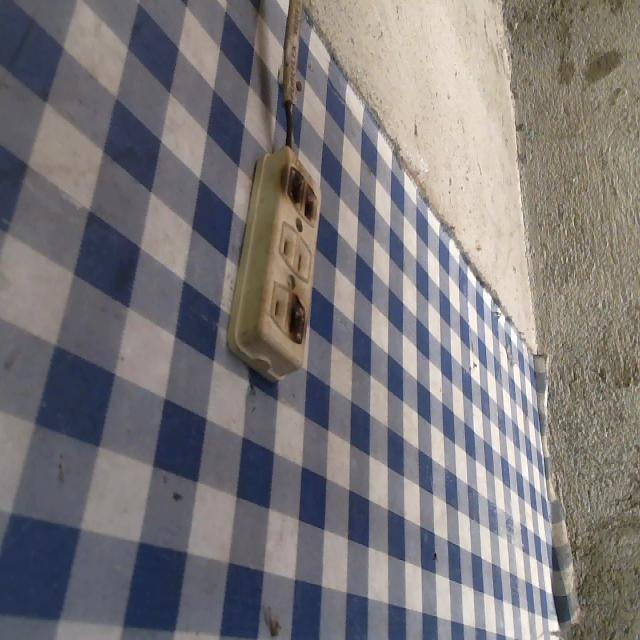-: (278, 158, 318, 222), (285, 292, 304, 345)
